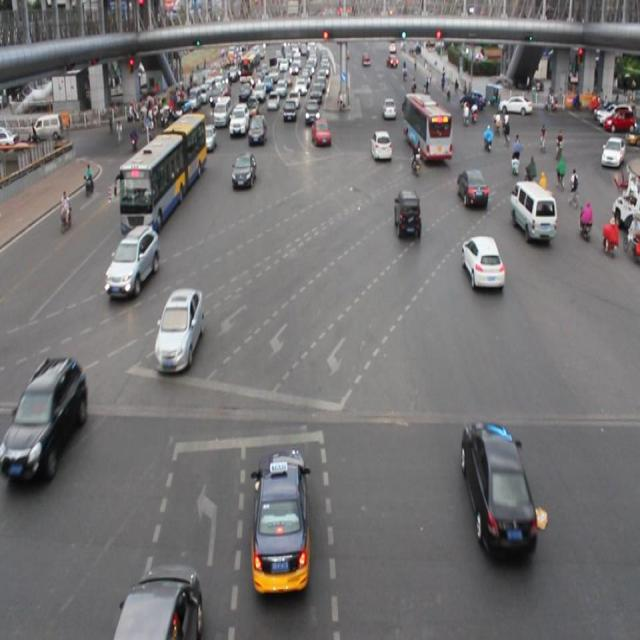car: (460, 419, 535, 562), (1, 356, 84, 483), (251, 446, 312, 596), (155, 288, 202, 372), (106, 226, 156, 296), (459, 235, 505, 290), (392, 187, 421, 242), (456, 166, 489, 212), (231, 150, 256, 191), (310, 116, 333, 153), (247, 111, 267, 147), (370, 131, 392, 162), (229, 103, 248, 135), (200, 123, 219, 153)
truck: (116, 565, 201, 640), (508, 180, 555, 243)
van: (120, 112, 208, 240), (404, 93, 450, 159)
